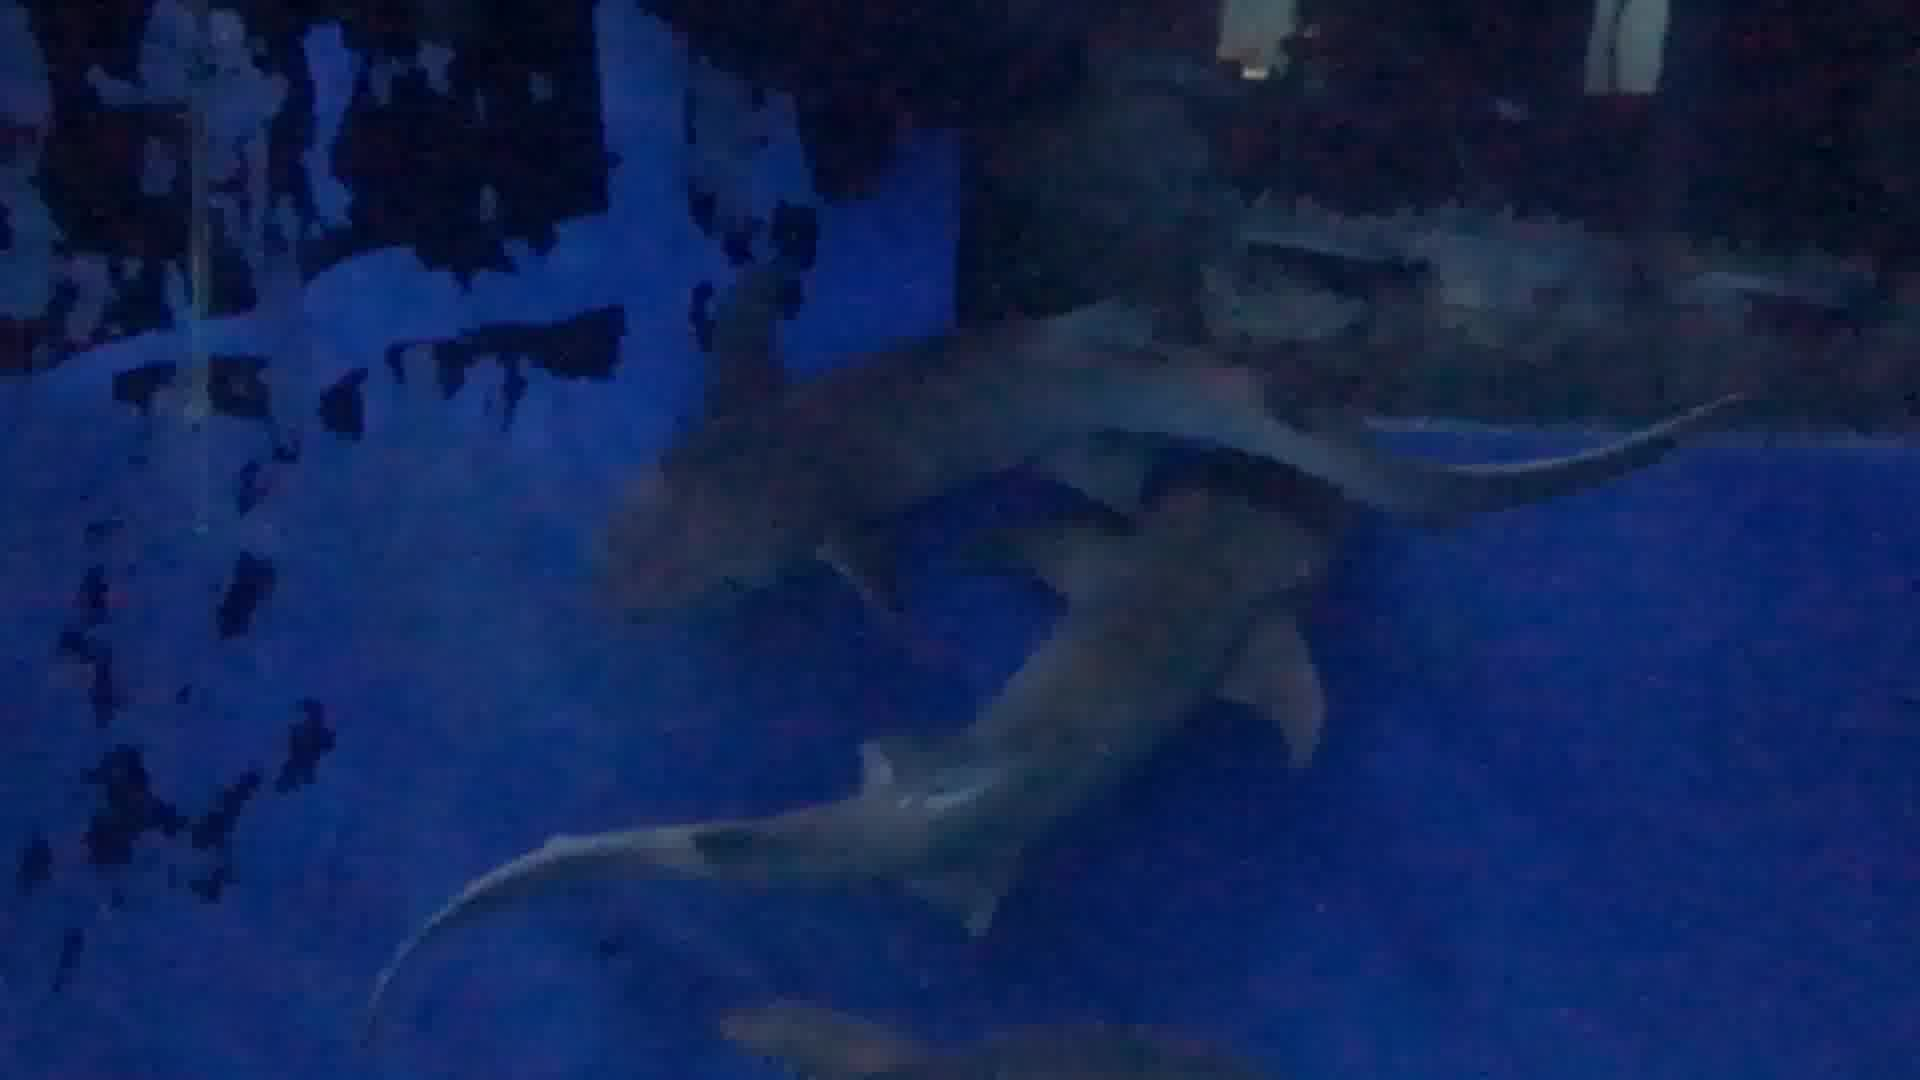Nebrius ferrugineus: (603, 294, 1687, 575)
